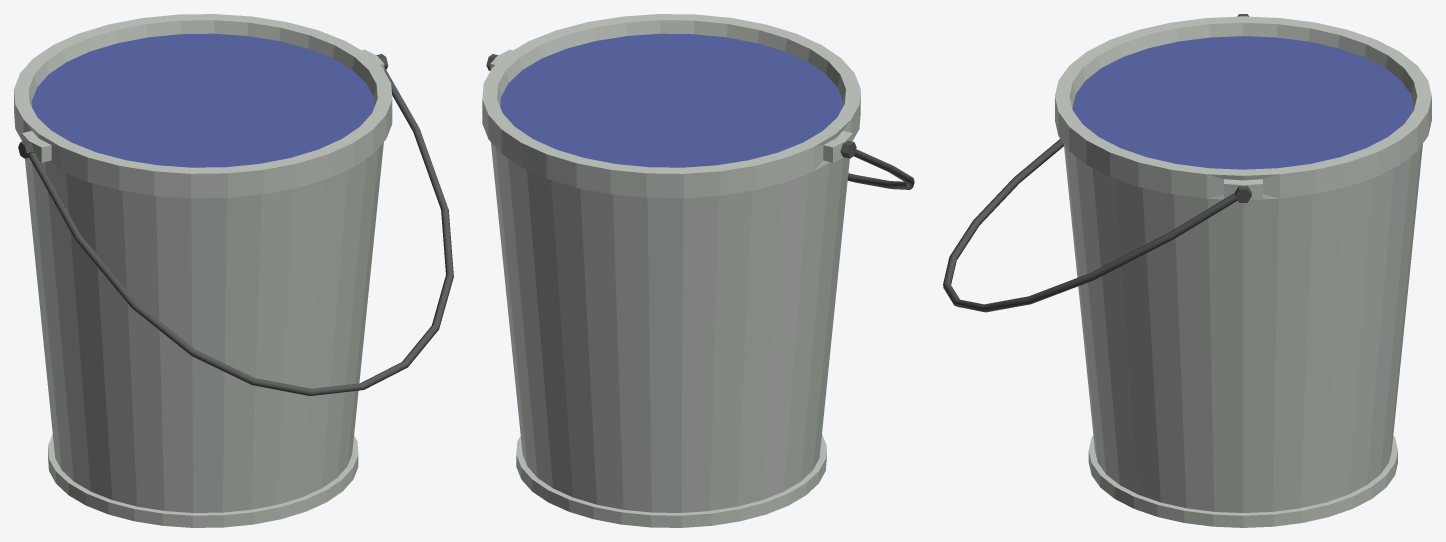
The model's file is Water_Bucket.fbx.
3 renders of one model, left to right at view 1: azimuth 30°, elevation 25°; view 2: azimuth 150°, elevation 25°; view 3: azimuth 270°, elevation 25°, orthographic.
Parts seen in each view (by area): view 1: Bucket, Water; view 2: Bucket, Water; view 3: Bucket, Water.
Part boxes in pixels (x1,y1,x2,y2): Bucket: (14, 14, 453, 527); Water: (31, 33, 374, 167); Bucket: (482, 14, 914, 527); Water: (500, 33, 842, 167); Bucket: (943, 14, 1431, 527); Water: (1072, 36, 1414, 169).
Bounding box in the file's own units: 50.25 × 48.88 × 59.1.
